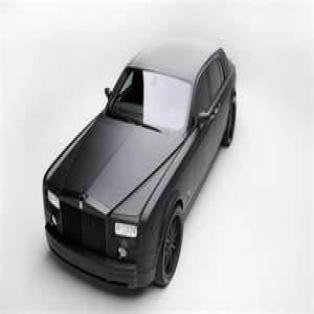Auto: (43, 42, 235, 296)
